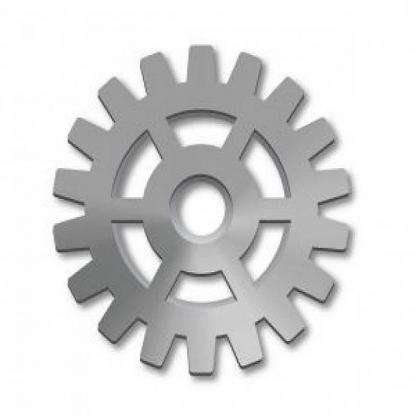FOD: (46, 41, 356, 384)
